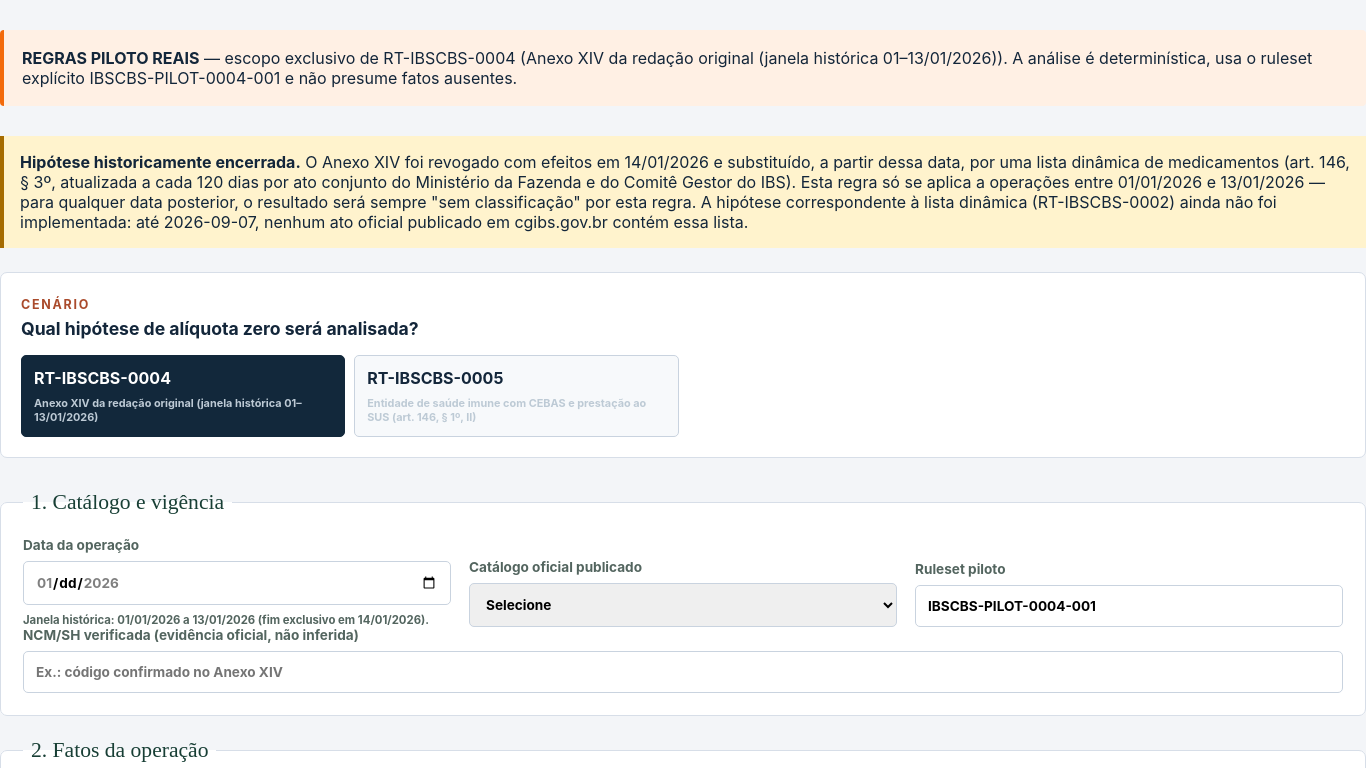
Test: AssistedConsultationMedicamentos › switches to RT-IBSCBS-0005's own fields and ruleset when selected
Click the button "RT-IBSCBS-0005" at (516, 396), box 354,355 -> 679,437
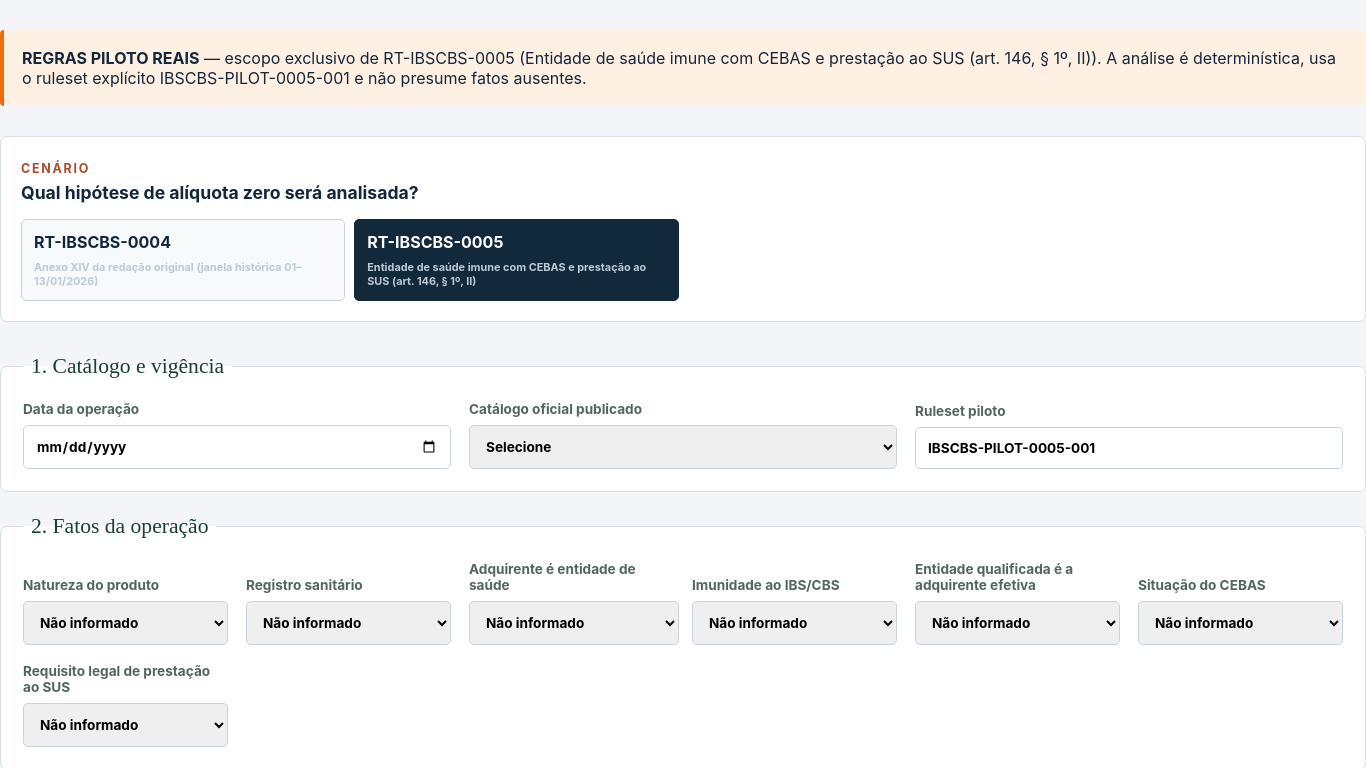
Now the field showing "IBSCBS-PILOT-0005-001" is shown, box 915,427 -> 1343,469
Now the dropdown labelled "Situação do CEBAS" is shown, box 1138,601 -> 1343,645
Now the label labelled "NCM/SH verificada (evidência oficial, não inferida)" is gone
